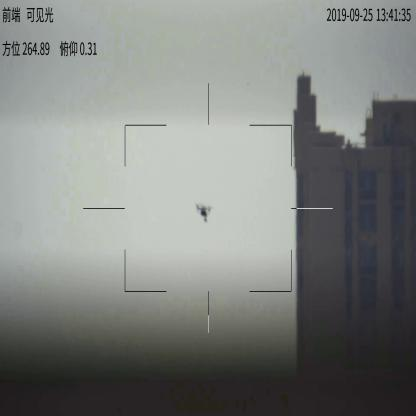uav: (196, 201, 212, 225)
